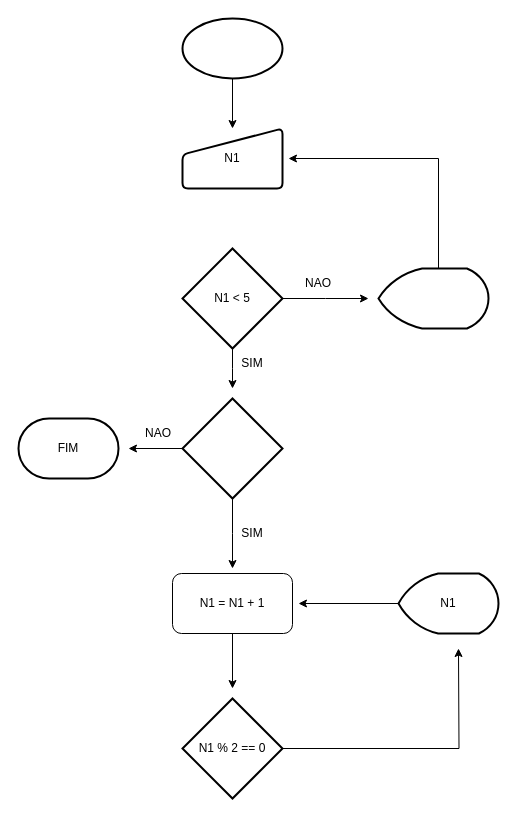
Some shapes in this 516 by 816 pixel diagram are drawn without their labels. The centre of each missing label's shape, as x and y in pixels:
"DIGITE UM NÚMERO MENOR QUE 5!" belongs at (x=433, y=298).
"INÍCIO" belongs at (x=232, y=48).
"N1 < 21" belongs at (x=232, y=448).
